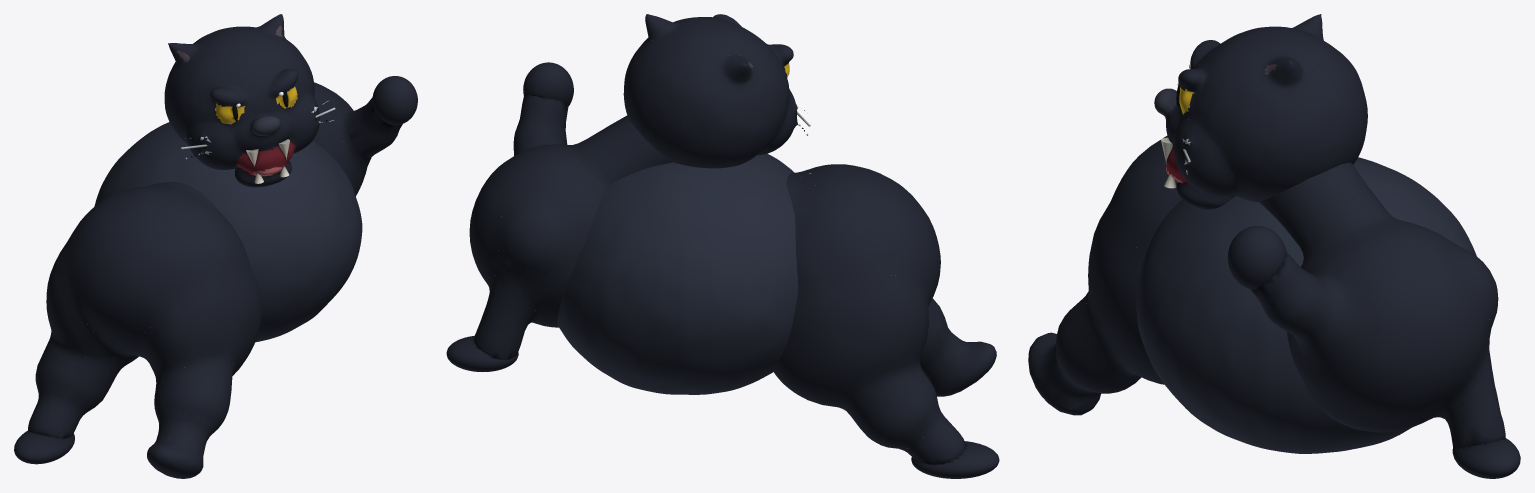
The model's file is nar-gar-nasta-buss.glb.
3 views of the same model, side by side, from view 1: azimuth 30°, elevation 25°; view 2: azimuth 150°, elevation 25°; view 3: azimuth 270°, elevation 25° (orthographic). The views are drawn at different scales.
Parts seen in each view (by area): view 1: pantera__r0, panca__r0, cabeca__r0, pantera__r1, pantera__r2; view 2: pantera__r0, panca__r0, cabeca__r0, pantera__r2, pantera__r1, pantera__r3; view 3: pantera__r0, panca__r0, cabeca__r0, pantera__r1, pantera__r3.
Boxes of the visible parts, box(x1,y1,x2,y2) form: pantera__r0: box(28, 82, 402, 478); panca__r0: box(94, 122, 362, 342); cabeca__r0: box(164, 14, 334, 187); pantera__r1: box(372, 76, 417, 125); pantera__r2: box(14, 430, 74, 464); pantera__r0: box(469, 94, 996, 464); panca__r0: box(557, 153, 798, 394); cabeca__r0: box(623, 14, 808, 168); pantera__r2: box(911, 441, 999, 478); pantera__r1: box(523, 62, 573, 106); pantera__r3: box(446, 335, 518, 371); pantera__r0: box(1028, 135, 1505, 448); panca__r0: box(1136, 157, 1476, 453); cabeca__r0: box(1154, 14, 1367, 209); pantera__r1: box(1227, 226, 1286, 289); pantera__r3: box(1452, 438, 1520, 478).
Size of the model in its own units: 1.97 by 1.68 by 1.57.
